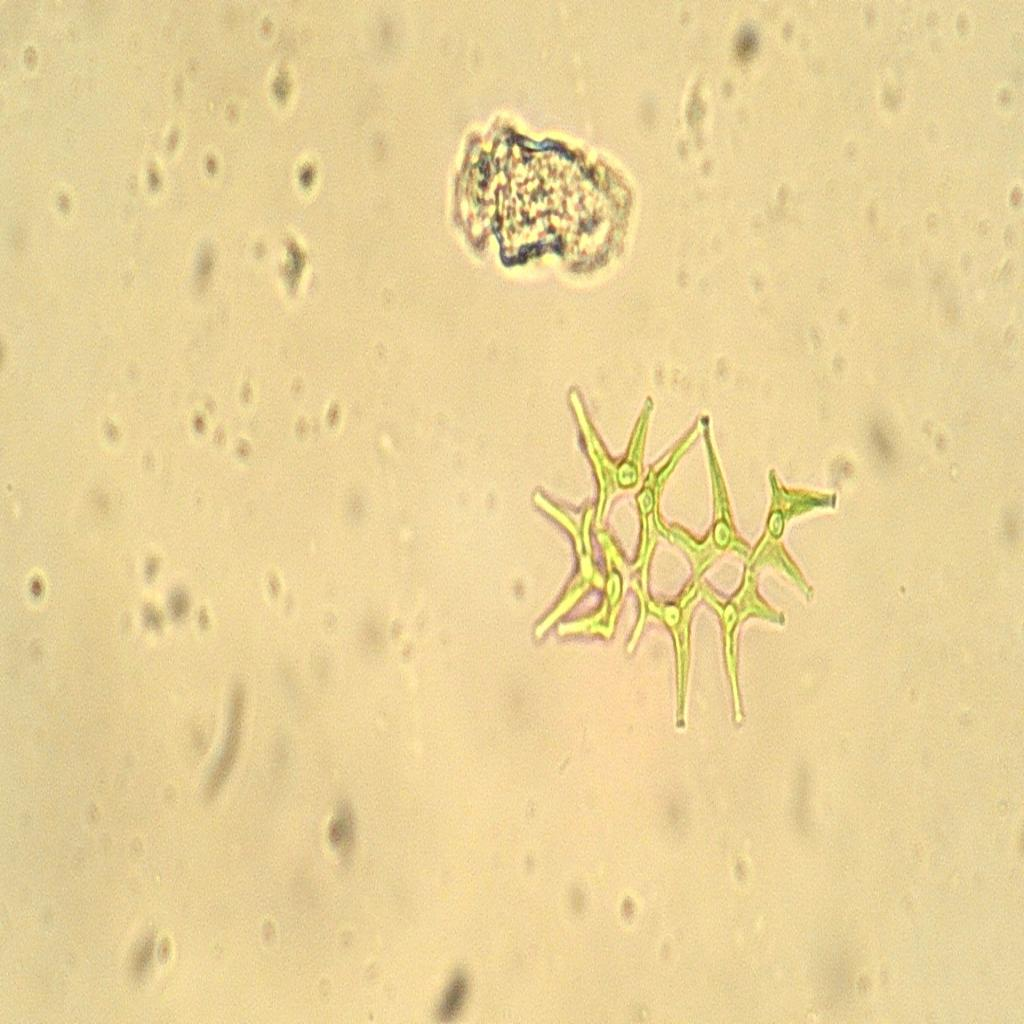Pediastrum_CFI: (517, 378, 865, 741)
